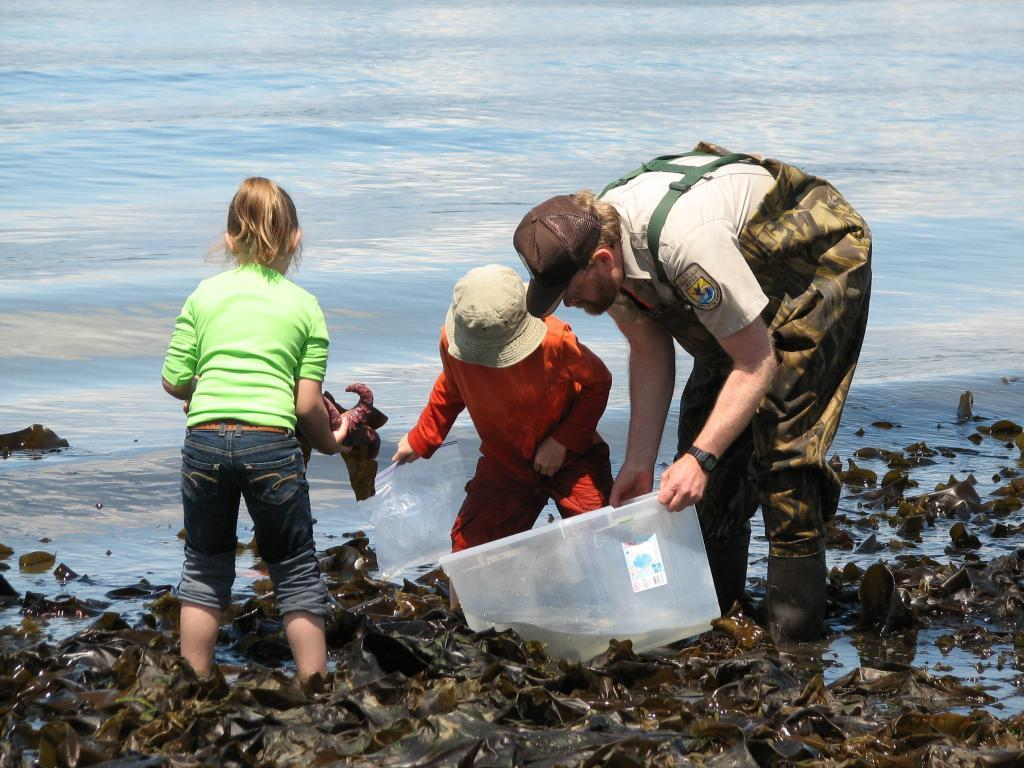Hat: (510, 192, 600, 318), (440, 265, 548, 369)
